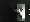person: (15, 5, 25, 22)
